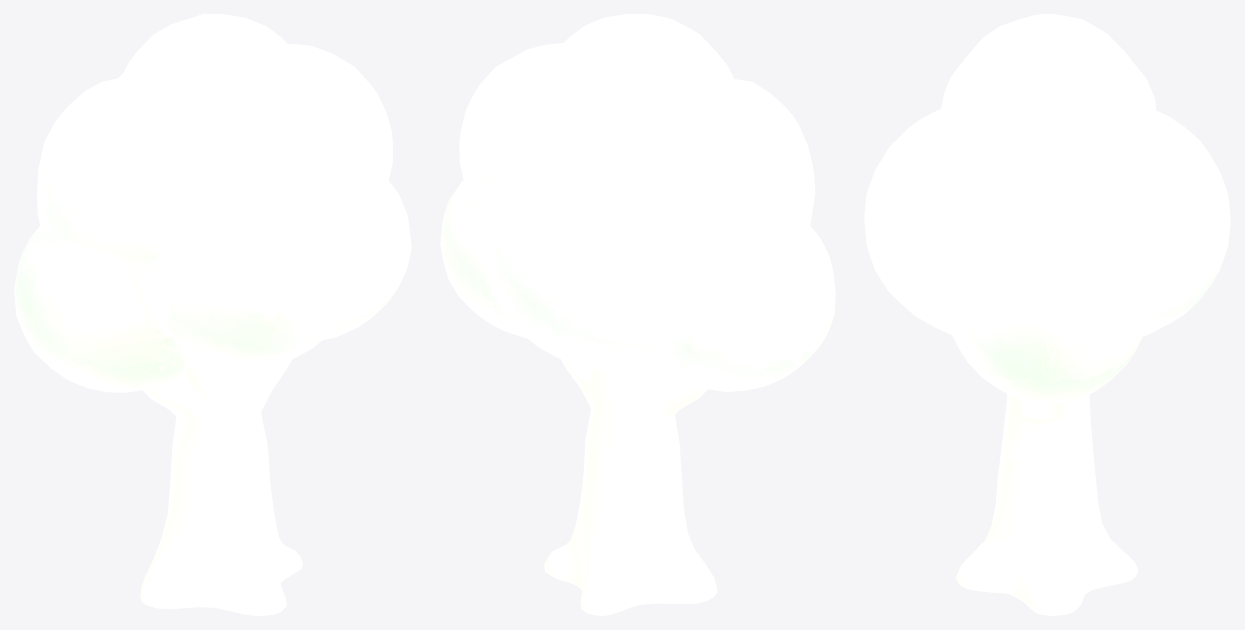
File: arvore-nuvem.glb
The picture shows the model from 3 angles, left to right: view 1: azimuth 30°, elevation 25°; view 2: azimuth 150°, elevation 25°; view 3: azimuth 270°, elevation 25°; orthographic projection.
Visible parts, largest first — view 1: mesh_node; view 2: mesh_node; view 3: mesh_node.
Part boxes in pixels (left/top/right/bottom): mesh_node: left=14, top=14, right=411, bottom=615; mesh_node: left=440, top=14, right=835, bottom=615; mesh_node: left=864, top=14, right=1230, bottom=615.
Bounding box in the file's own units: 0.6953 × 1 × 0.6035.
Materials: 1 (1 with a texture image).
